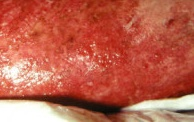SJS-TEN: (0, 0, 194, 107)
